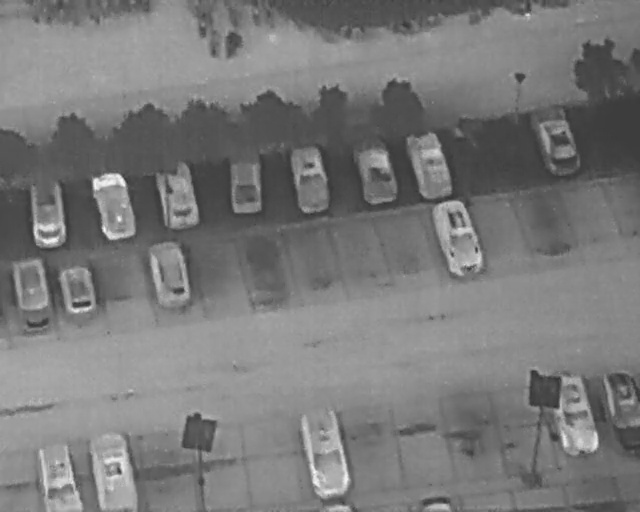Bicycle: (218, 28, 246, 63), (386, 19, 416, 38), (339, 22, 365, 42), (209, 28, 221, 60), (249, 3, 263, 30), (265, 0, 276, 30), (227, 6, 240, 31), (92, 0, 104, 26), (197, 11, 208, 38), (523, 1, 535, 18), (57, 0, 65, 19), (142, 0, 152, 13), (120, 1, 130, 14)
Car: (294, 400, 359, 501), (428, 193, 488, 283), (547, 367, 603, 460), (526, 98, 585, 182), (144, 234, 198, 315), (401, 125, 456, 204), (8, 251, 59, 334), (87, 168, 141, 243), (351, 131, 403, 208), (88, 431, 138, 510), (152, 160, 203, 234), (285, 141, 333, 217), (34, 441, 85, 511), (604, 371, 639, 456), (54, 261, 101, 322), (27, 179, 68, 248), (226, 149, 265, 216)
